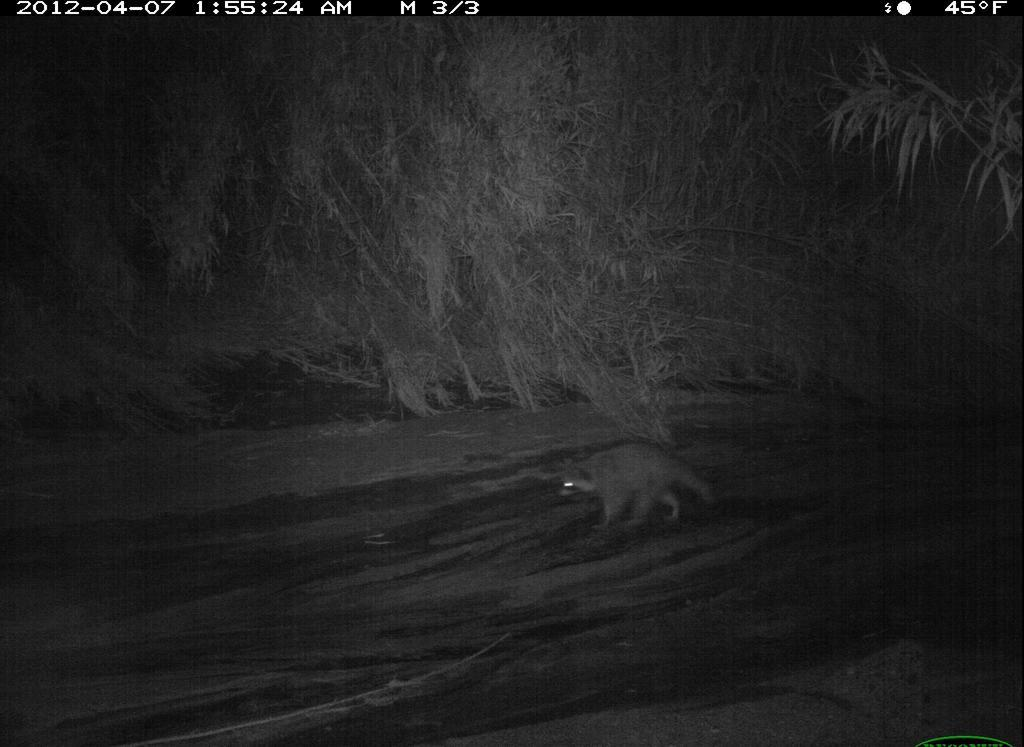raccoon: (552, 427, 726, 534)
